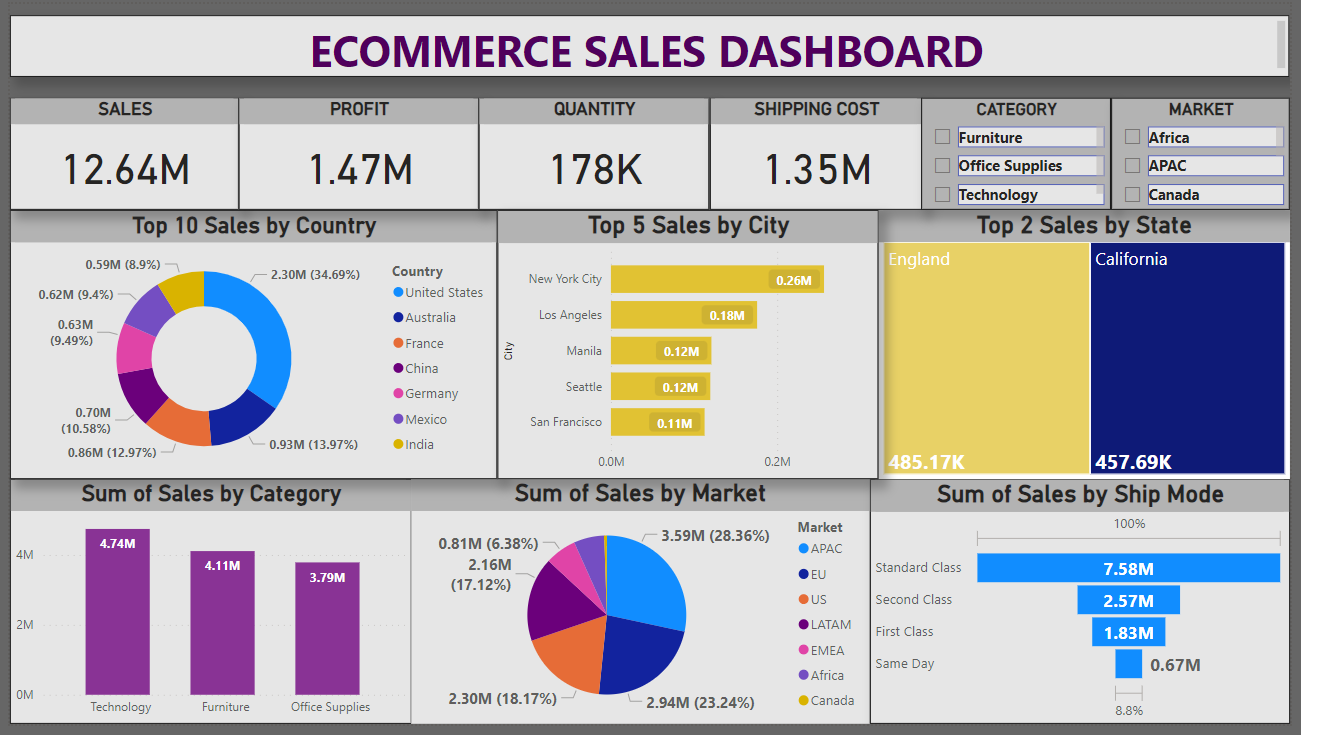

The page's visual inventory and layout, read from the dashboard file:
{"tool":"powerbi","page":{"name":"Page 1","canvas":[1280,720],"ordinal":0},"visuals":[{"type":"columnChart","fields":{"Category":["Orders.Category"],"Y":["Sum(Orders.Sales)"]},"box":[0,475.2,401.6,244.8],"z":0},{"type":"pieChart","fields":{"Category":["Orders.Market"],"Y":["Sum(Orders.Sales)"]},"box":[401.6,475.2,458.3,244.8],"z":1000},{"type":"funnel","fields":{"Category":["Orders.Ship Mode"],"Y":["Sum(Orders.Sales)"]},"box":[859.9,475.2,419.7,244.8],"z":2000},{"type":"donutChart","title":"Top 10 Sales by Country","fields":{"Category":["Orders.Country"],"Y":["Sum(Orders.Sales)"]},"box":[0,206.2,487.2,268.9],"z":3000},{"type":"treemap","title":"Top 2 Sales by State","fields":{"Group":["Orders.State"],"Values":["Sum(Orders.Sales)"]},"box":[868.3,206.2,411.3,268.9],"z":4000},{"type":"card","title":"SALES","fields":{"Values":["Sum(Orders.Sales)"]},"box":[0,94.1,229.1,112.2],"z":5000},{"type":"card","title":"PROFIT","fields":{"Values":["Sum(Orders.Profit)"]},"box":[229.1,94.1,240,112.2],"z":6000},{"type":"card","title":"QUANTITY","fields":{"Values":["Sum(Orders.Quantity)"]},"box":[469.1,94.1,230.4,112.2],"z":7000},{"type":"card","title":"SHIPPING COST","fields":{"Values":["Sum(Orders.Shipping Cost)"]},"box":[699.5,94.1,212.3,112.2],"z":8000},{"type":"slicer","title":"CATEGORY","fields":{"Values":["Orders.Category"]},"box":[911.8,94.1,189.3,112.2],"z":9000},{"type":"slicer","title":"MARKET","fields":{"Values":["Orders.Market"]},"box":[1101.1,94.1,178.5,112.2],"z":10000},{"type":"textbox","box":[0,10.9,1279.6,61.5],"z":11000},{"type":"barChart","title":"Top 5 Sales by City","fields":{"Category":["Orders.City"],"Y":["Sum(Orders.Sales)"]},"box":[487.2,206.2,381.1,268.9],"z":12000}]}

Visuals, with their boxes in screenshot pixels (x1, y1, x2, y2), scaled from the page's 1280x720 canvas onto the 1324x735 screenshot:
columnChart - Orders.Category x Sum(Orders.Sales): 0:485:415:734
pieChart - Orders.Market x Sum(Orders.Sales): 415:485:889:734
funnel - Orders.Ship Mode x Sum(Orders.Sales): 889:485:1323:734
"Top 10 Sales by Country" donutChart: 0:210:504:485
"Top 2 Sales by State" treemap: 898:210:1323:485
"SALES" card: 0:96:237:211
"PROFIT" card: 237:96:485:211
"QUANTITY" card: 485:96:724:211
"SHIPPING COST" card: 724:96:943:211
"CATEGORY" slicer: 943:96:1139:211
"MARKET" slicer: 1139:96:1323:211
textbox: 0:11:1323:74
"Top 5 Sales by City" barChart: 504:210:898:485
